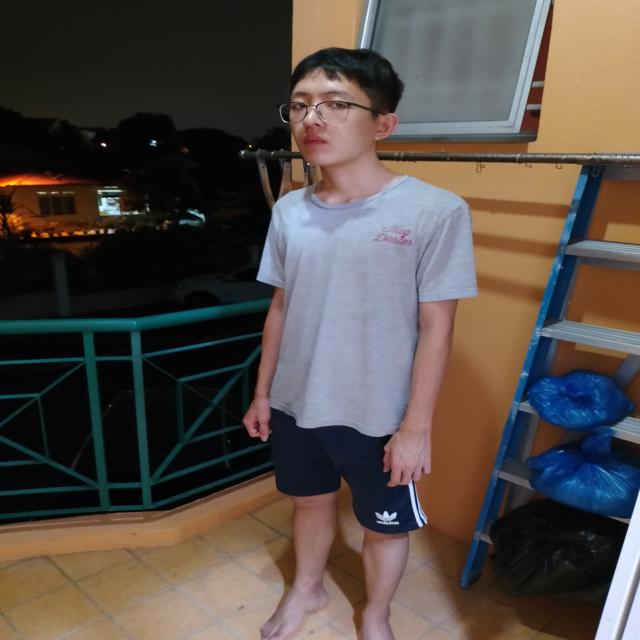person_without_labcoat: (244, 48, 476, 639)
